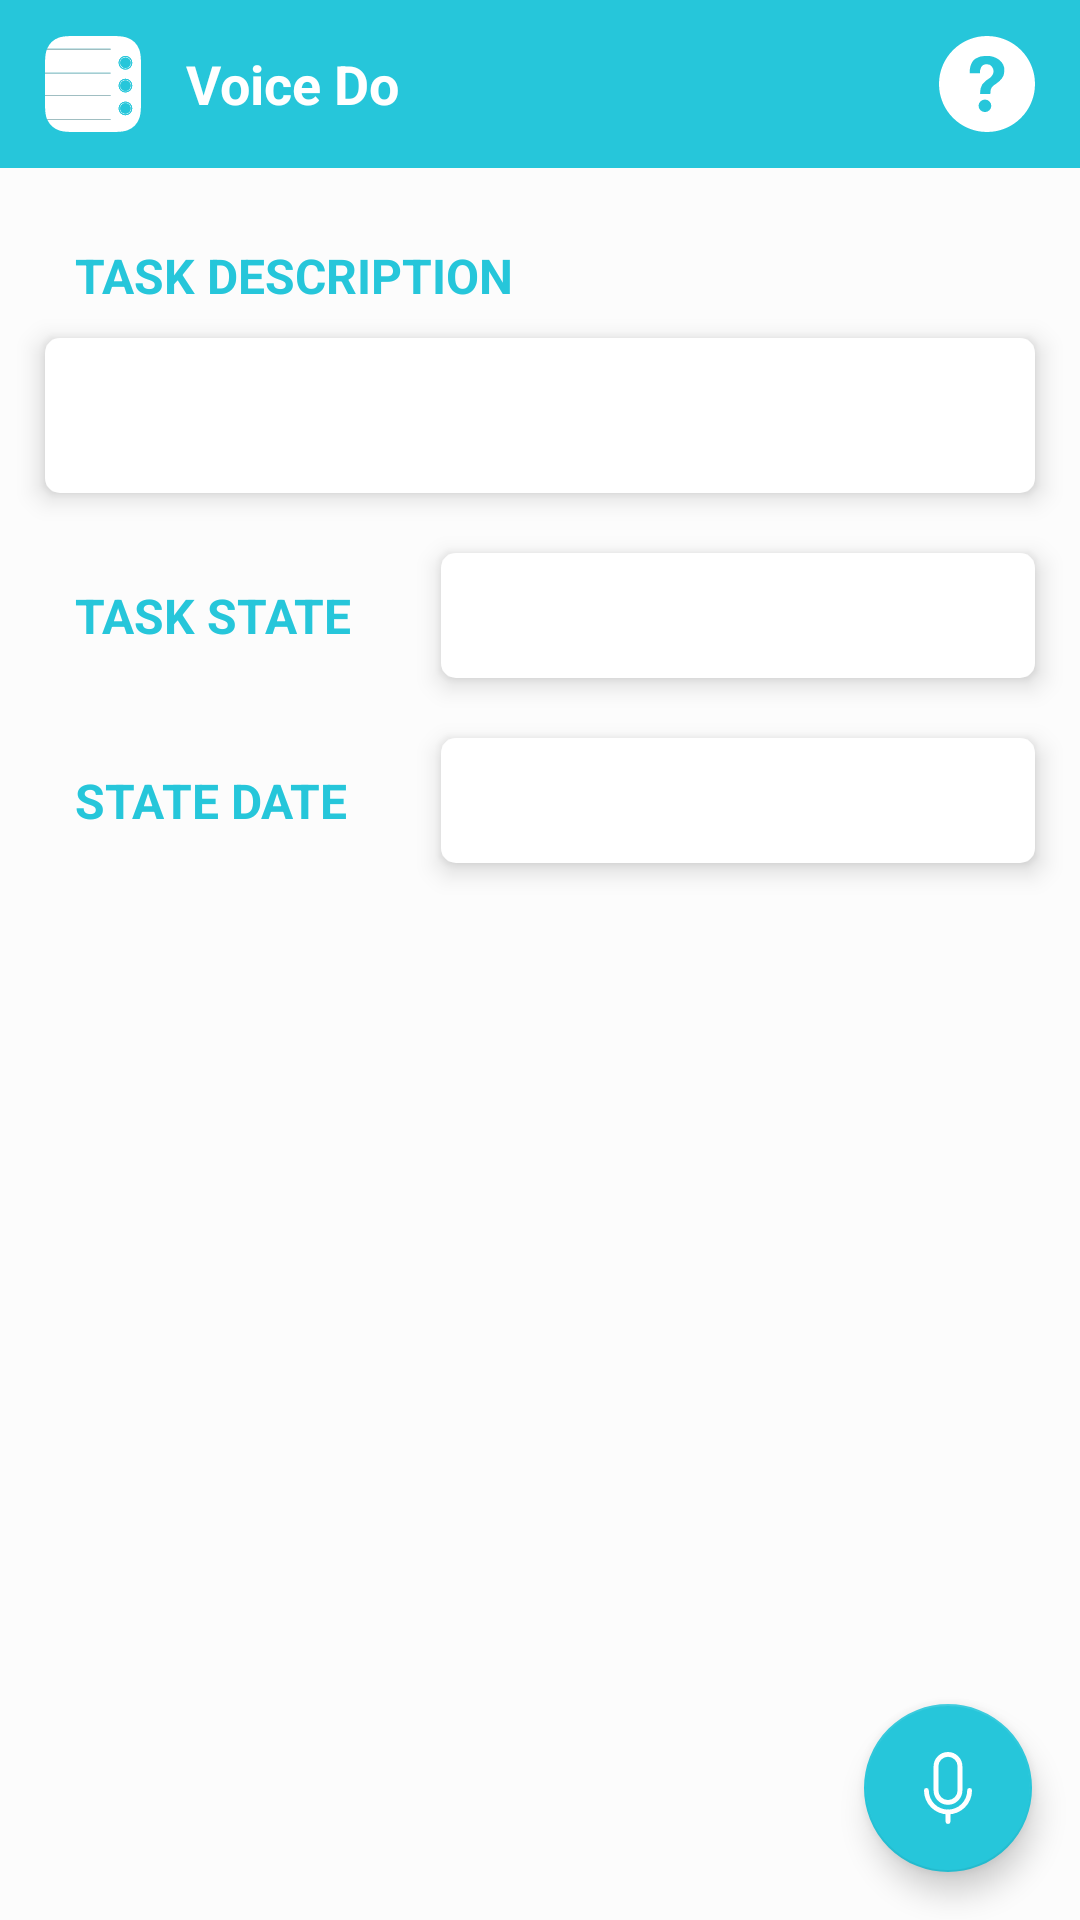

Where to tap for icons on this 1080 × 1920 app screen, as (x,y):
help: (987,84)
microphone: (948,1788)
